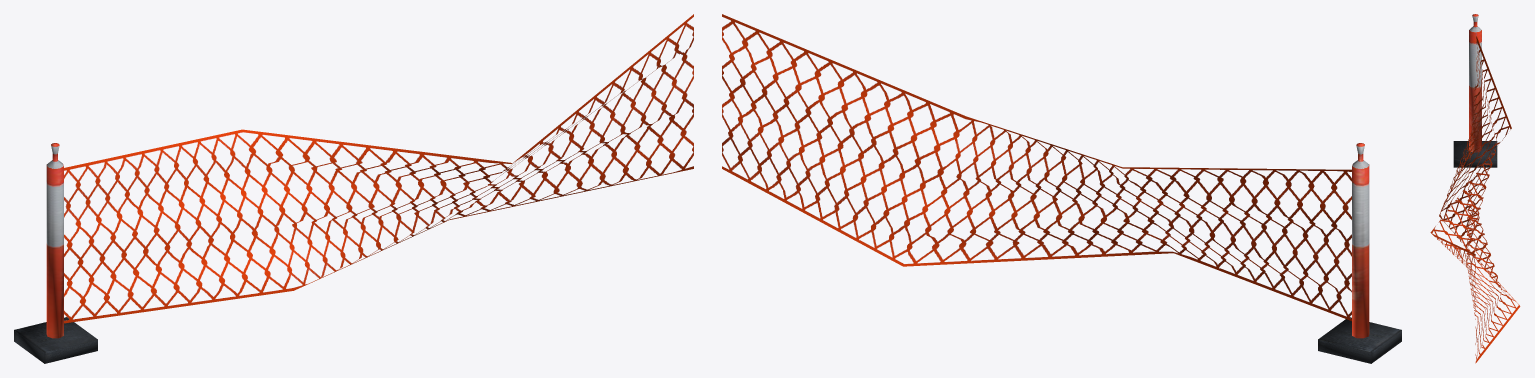
File: orangeFence_sag2.fbx
3 views of the same model, side by side, from view 1: azimuth 30°, elevation 25°; view 2: azimuth 150°, elevation 25°; view 3: azimuth 270°, elevation 25° (orthographic). The views are drawn at different scales.
Parts seen in each view (by area): view 1: Plane01, Duplicate03, Cylinder02, Box03; view 2: Plane01, Duplicate03, Cylinder02, Box03; view 3: Plane01, Cylinder02, Duplicate03, Box03.
Boxes of the visible parts, x1,y1,x2,y2 form: Plane01: (64, 14, 693, 323); Duplicate03: (64, 16, 693, 322); Cylinder02: (46, 143, 63, 338); Box03: (14, 317, 97, 363); Plane01: (722, 14, 1351, 321); Duplicate03: (722, 14, 1351, 315); Cylinder02: (1352, 143, 1369, 338); Box03: (1318, 317, 1401, 363); Plane01: (1430, 36, 1520, 363); Cylinder02: (1469, 14, 1481, 152); Duplicate03: (1431, 38, 1518, 358); Box03: (1453, 141, 1497, 167).
Size of the model in its own units: 375 by 110 by 62.05.
